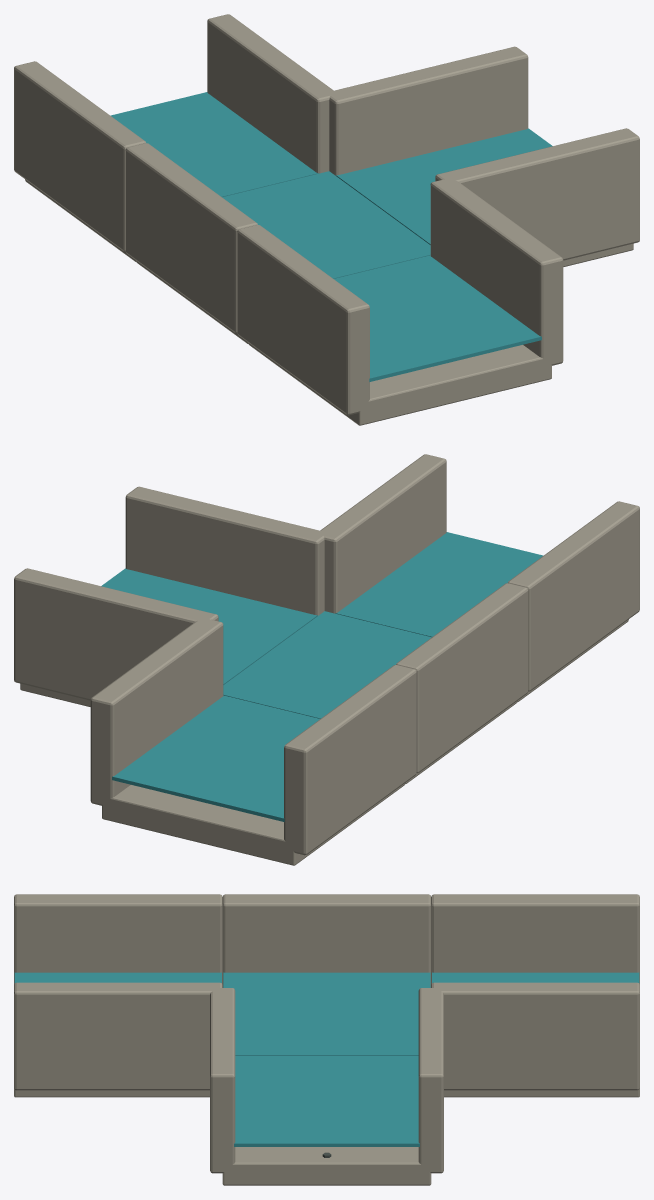
Rendered from Channel_Junction_Flowing.glb.
3 renders of one model, top to bottom at view 1: azimuth 30°, elevation 25°; view 2: azimuth 150°, elevation 25°; view 3: azimuth 270°, elevation 25°, orthographic. The views are drawn at different scales.
Visible parts, largest first — view 1: Structure, Water; view 2: Structure, Water; view 3: Structure, Water.
Part boxes in pixels (box(x1,y1,x2,y2)): Structure: box(14, 14, 639, 425); Water: box(110, 92, 552, 381); Structure: box(14, 454, 639, 865); Water: box(101, 532, 543, 821); Structure: box(14, 894, 639, 1185); Water: box(14, 972, 639, 1146).
Bounding box in the file's own units: 4.12 × 1.17 × 6.
